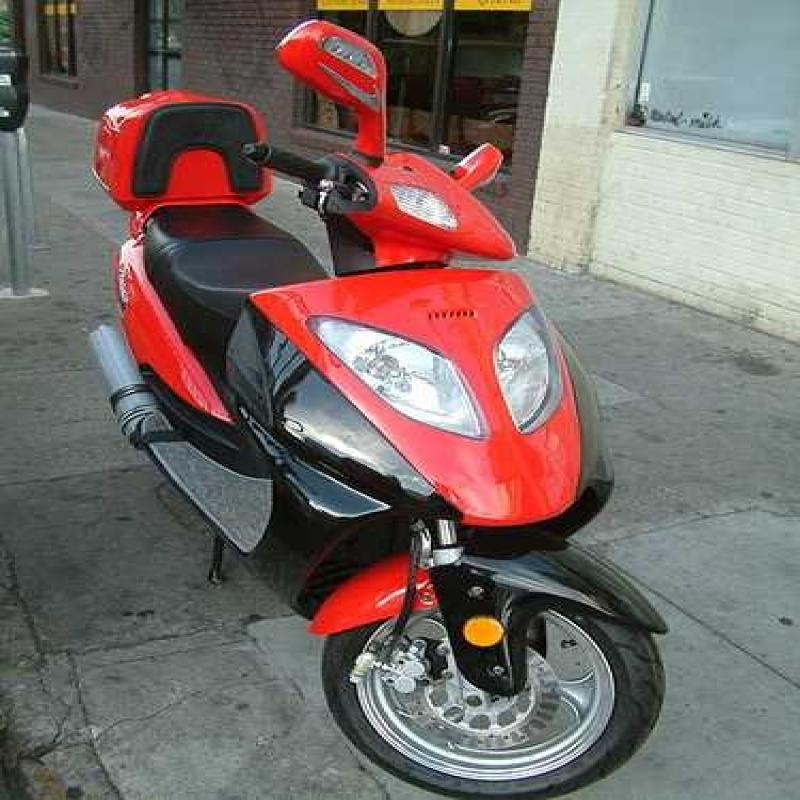bike: (55, 27, 692, 800)
